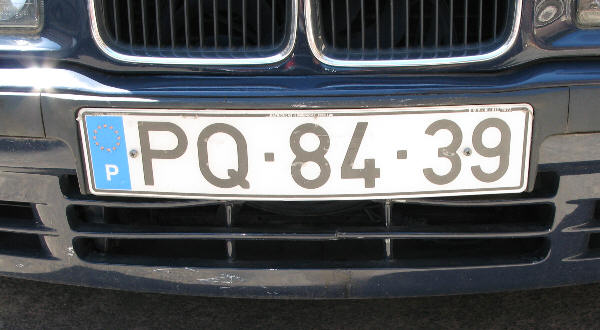license_plate: (75, 107, 530, 196)
